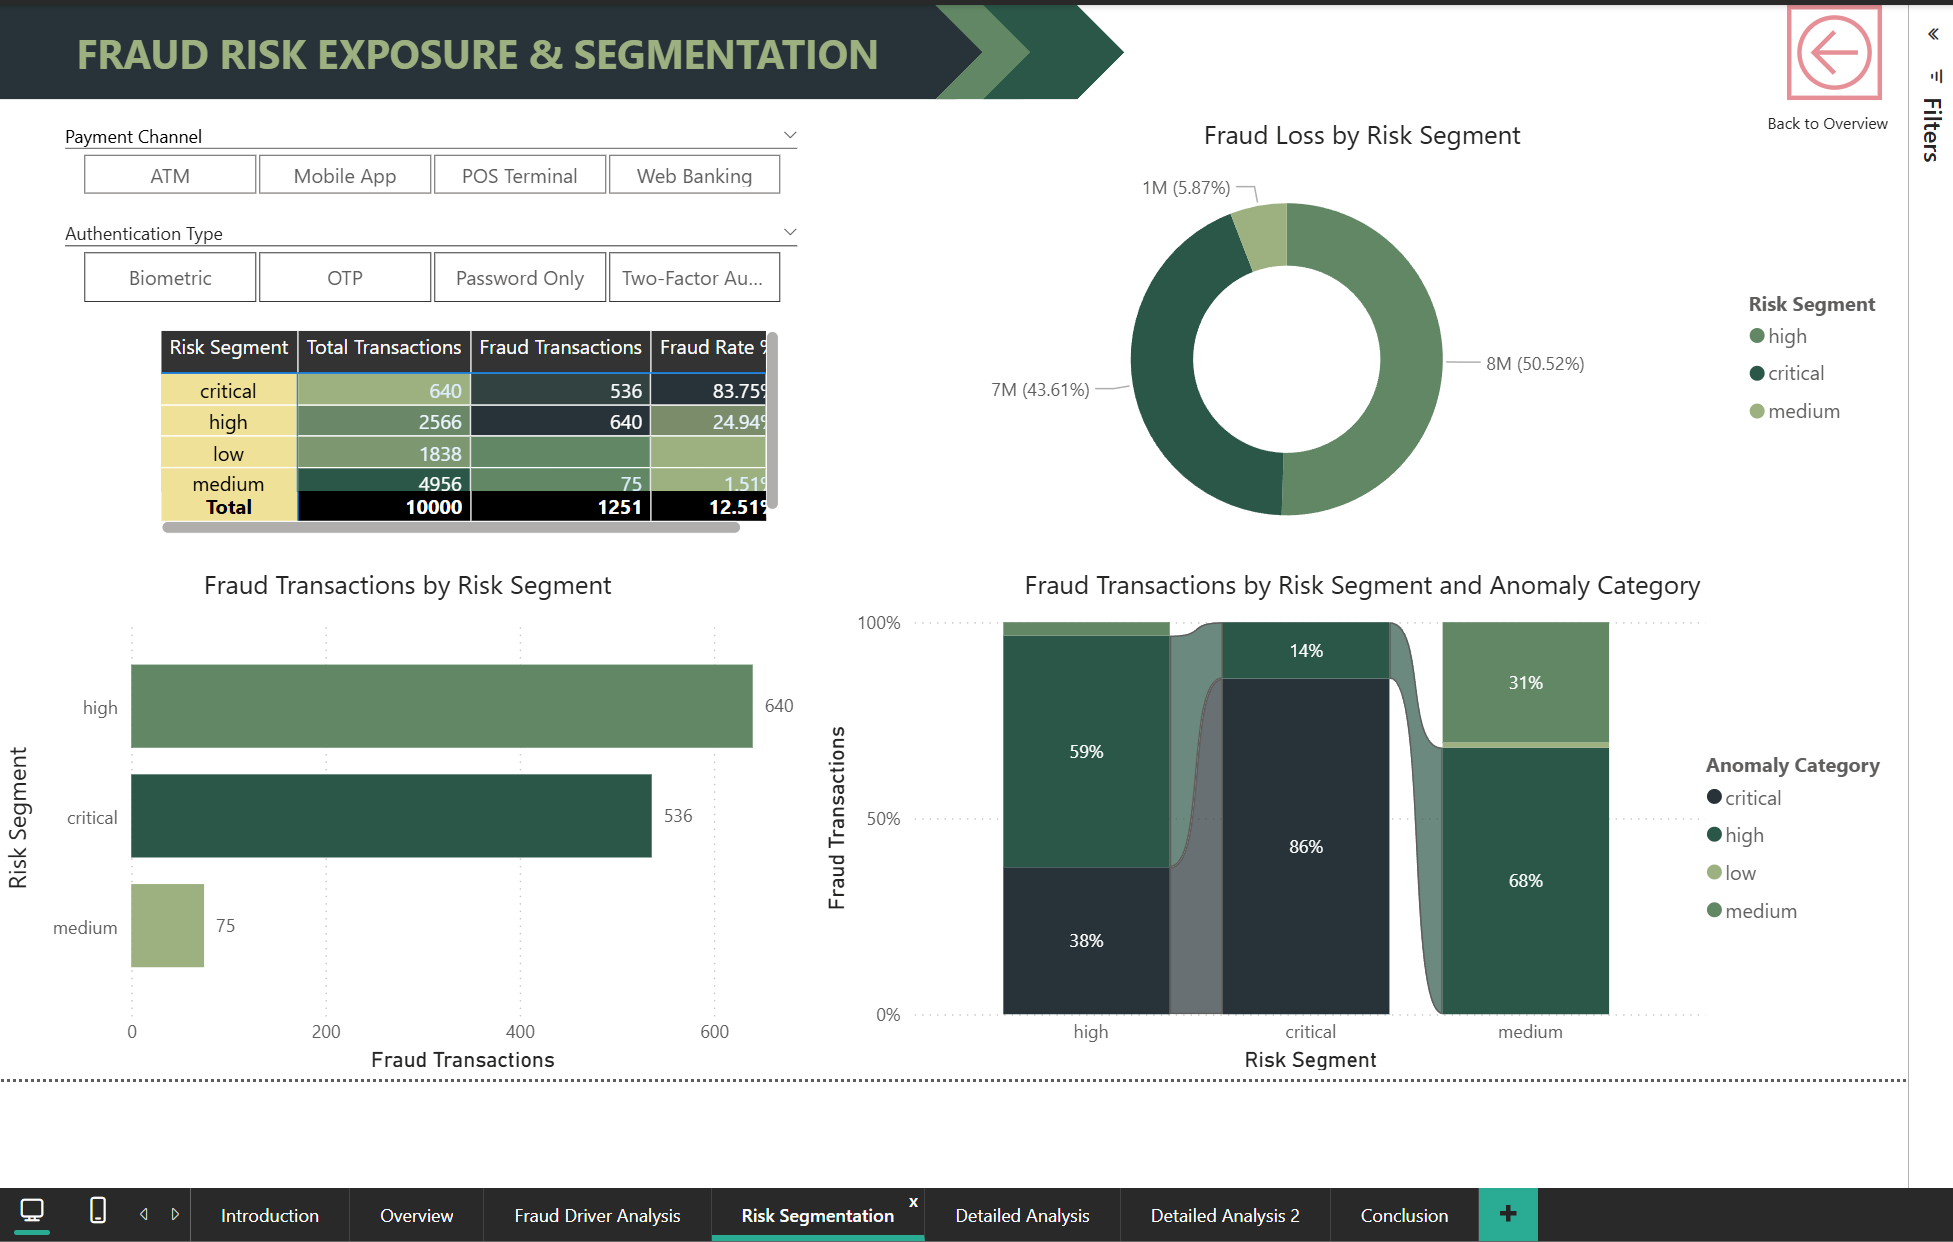

This screenshot's page, from the dashboard's own definition file:
{"tool":"powerbi","page":{"name":"Risk Segmentation","canvas":[1280,720],"ordinal":3},"visuals":[{"type":"pivotTable","fields":{"Rows":["banking_transactions.Risk Segment"],"Values":["banking_transactions.total transactions","banking_transactions.fraud transactions","banking_transactions.fraud rate %"]},"box":[104,213.2,424.4,146.7],"z":0},{"type":"donutChart","fields":{"Y":["banking_transactions.fraud loss"],"Category":["banking_transactions.Risk Segment"]},"box":[548.4,74.7,732,302.2],"z":1000},{"type":"clusteredBarChart","fields":{"Y":["banking_transactions.Fraud Transactions"],"Category":["banking_transactions.Risk Segment"]},"box":[0,376.5,548.1,343.2],"z":2000},{"type":"hundredPercentStackedColumnChart","fields":{"Category":["banking_transactions.Risk Segment"],"Series":["banking_transactions.Anomaly Category"],"Y":["banking_transactions.Fraud Transactions"]},"box":[548.1,376.5,732.2,343.2],"z":3000},{"type":"group","id":"g1","title":"Group 1","box":[0,0,754.3,63.4],"z":4000},{"type":"slicer","fields":{"Values":["banking_transactions.Payment Channel"]},"box":[31.2,74.9,516.9,58.2],"z":5000},{"type":"slicer","fields":{"Values":["banking_transactions.Authentication Type"]},"box":[31.2,139.4,516.9,66.6],"z":6000},{"type":"actionButton","box":[1199,0,63.7,63.7],"z":7000},{"type":"textbox","box":[1180.4,63.7,100,29.7],"z":8000},{"type":"shape","box":[0,0,673.9,63.4],"z":9000,"group":"g1"},{"type":"shape","box":[627.9,0,90.5,63.4],"z":10000,"group":"g1"},{"type":"shape","box":[659.5,0,94.8,63.4],"z":11000,"group":"g1"}]}

Visuals, with their boxes on the page's 1280x720 design canvas (x1, y1, x2, y2). These are canvas units, not pixel positions in the 1953x1242 screenshot, which may show the page scaled, cropped or inside an application window:
pivotTable - banking_transactions.Risk Segment x banking_transactions.total transactions: 104,213,528,360
donutChart - banking_transactions.fraud loss x banking_transactions.Risk Segment: 548,75,1280,377
clusteredBarChart - banking_transactions.Fraud Transactions x banking_transactions.Risk Segment: 0,376,548,720
hundredPercentStackedColumnChart - banking_transactions.Risk Segment x banking_transactions.Anomaly Category: 548,376,1280,720
"Group 1" group: 0,0,754,63
slicer - banking_transactions.Payment Channel: 31,75,548,133
slicer - banking_transactions.Authentication Type: 31,139,548,206
actionButton: 1199,0,1263,64
textbox: 1180,64,1280,93
shape: 0,0,674,63
shape: 628,0,718,63
shape: 660,0,754,63
